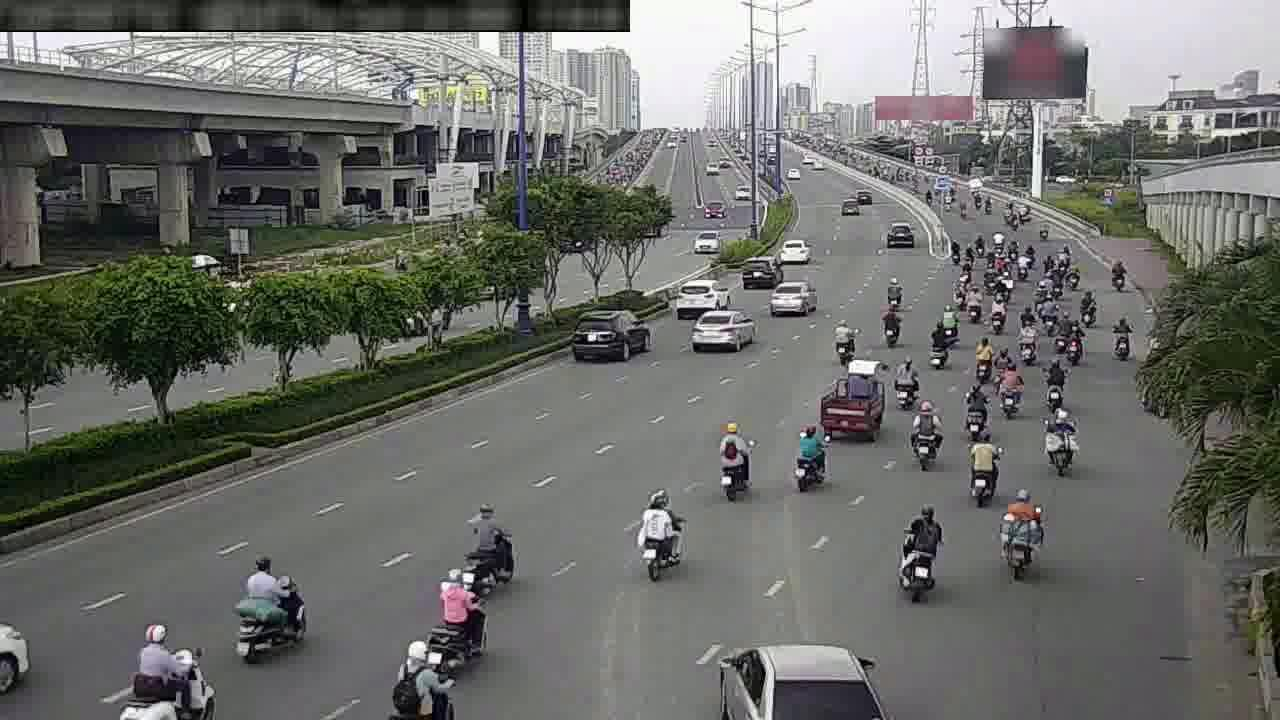container: (733, 636, 878, 711), (571, 305, 655, 364), (0, 601, 33, 707), (689, 306, 756, 357), (766, 271, 819, 319), (667, 273, 721, 316), (736, 252, 778, 290), (880, 216, 923, 251), (775, 232, 815, 267)
motorbike: (230, 560, 315, 664), (127, 624, 203, 710), (459, 505, 524, 585), (383, 645, 449, 720), (426, 581, 485, 664), (888, 508, 943, 595), (629, 495, 682, 574), (788, 420, 835, 490), (993, 497, 1037, 571), (710, 430, 757, 498), (1040, 411, 1085, 475), (962, 434, 1002, 496), (905, 404, 943, 465), (1105, 310, 1139, 360), (827, 317, 861, 366), (958, 387, 990, 437), (889, 357, 920, 408), (996, 369, 1026, 417), (877, 301, 907, 346), (1038, 361, 1068, 406), (921, 322, 950, 368), (969, 335, 997, 376), (1011, 323, 1039, 363), (1060, 323, 1087, 363), (1072, 285, 1099, 324), (932, 303, 959, 342), (983, 293, 1009, 332), (1103, 255, 1128, 293), (880, 274, 906, 310), (962, 285, 985, 320), (1041, 297, 1063, 330)
